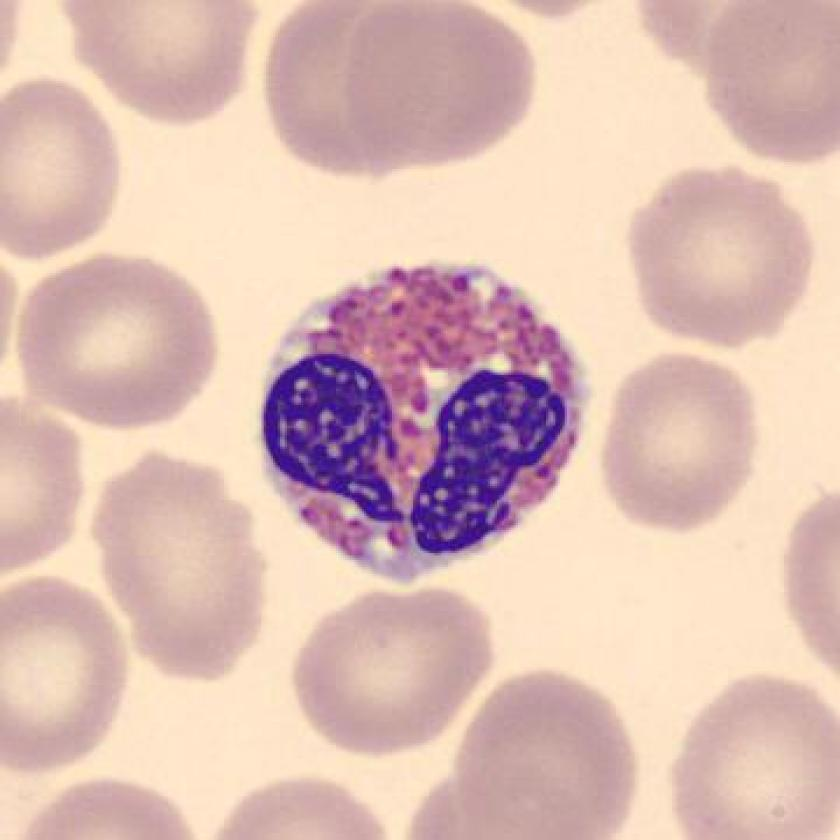eosinophil: (242, 251, 606, 598)
